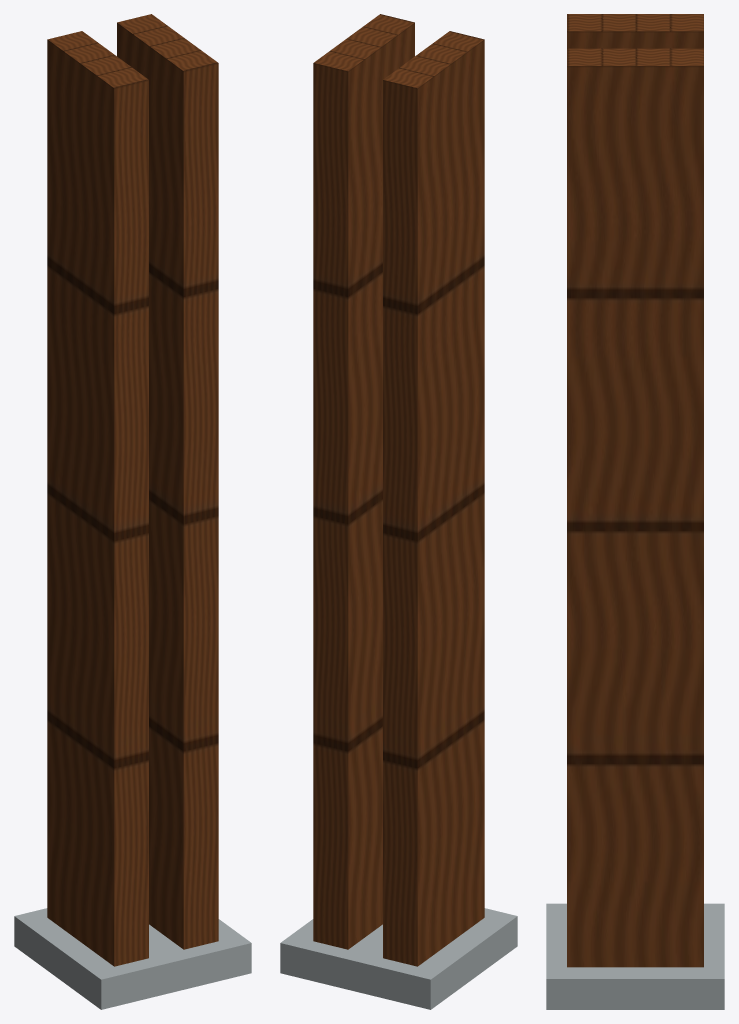
Rendered from modular-survival-base-builder-paired-stud-post-2c8ed532__24221.glb.
3 renders of one model, left to right at view 1: azimuth 30°, elevation 25°; view 2: azimuth 150°, elevation 25°; view 3: azimuth 270°, elevation 25°, orthographic. The views are drawn at different scales.
Visible parts, largest first — view 1: paired-stud-post; view 2: paired-stud-post; view 3: paired-stud-post.
Boxes of the visible parts, <box> form: paired-stud-post: <box>14,14,251,1009</box>; paired-stud-post: <box>280,14,517,1009</box>; paired-stud-post: <box>546,14,724,1009</box>.
Size of the model in its own units: 0.416 by 2.4 by 0.416.
Materials: 2 (1 with a texture image).
